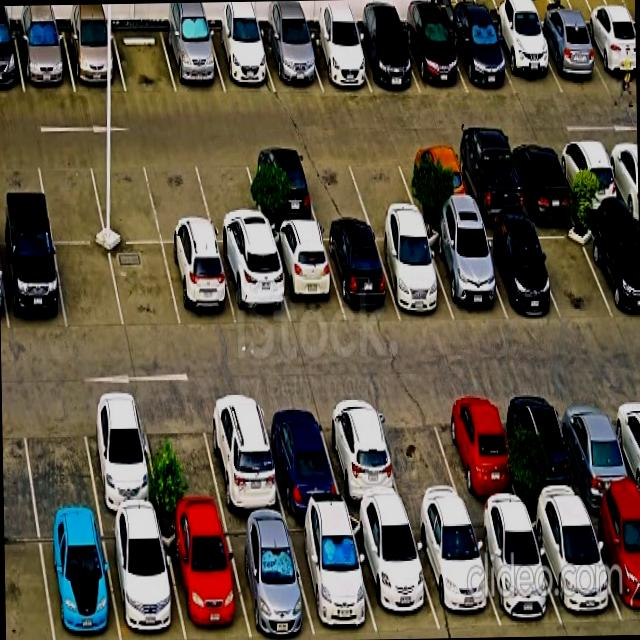car: (527, 507, 624, 631), (286, 515, 378, 640), (222, 518, 314, 639), (160, 518, 250, 640), (468, 511, 561, 627), (408, 512, 500, 629), (348, 515, 440, 632), (435, 391, 523, 510), (316, 395, 405, 511), (200, 393, 284, 515), (101, 518, 185, 640), (554, 389, 640, 506), (37, 519, 119, 640), (258, 397, 343, 513), (504, 390, 585, 509), (80, 397, 160, 516), (424, 226, 507, 321), (474, 225, 558, 318), (372, 227, 453, 320), (268, 227, 344, 326), (321, 226, 399, 321), (585, 502, 640, 624), (162, 243, 236, 327), (0, 239, 66, 332), (217, 243, 290, 325), (582, 217, 640, 320), (450, 143, 526, 219), (244, 149, 317, 225), (399, 145, 472, 218), (489, 24, 562, 96), (533, 24, 609, 93), (506, 140, 576, 213), (555, 139, 623, 210), (447, 23, 515, 93), (401, 23, 467, 94), (208, 28, 275, 93), (352, 27, 419, 92), (161, 28, 225, 93), (304, 30, 370, 92), (62, 28, 125, 92), (14, 29, 75, 93), (580, 24, 636, 92), (260, 31, 322, 91)
free: (372, 393, 466, 513), (140, 397, 224, 517), (19, 398, 98, 519), (530, 218, 615, 315), (193, 149, 267, 242), (88, 153, 161, 242), (144, 152, 214, 242), (36, 152, 105, 242), (109, 243, 180, 329), (54, 244, 123, 330), (298, 148, 370, 222), (346, 147, 418, 219), (112, 28, 176, 92)
